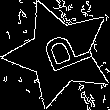P_W: (28, 27, 91, 81)
